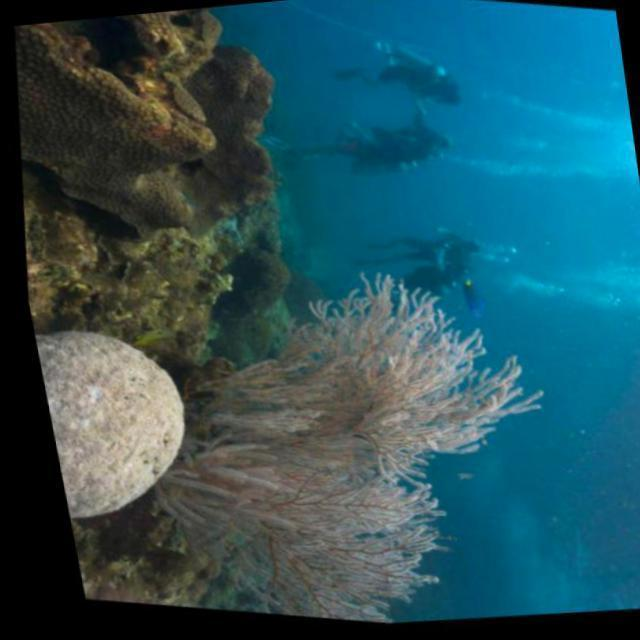Dead Coral: (1, 1, 300, 283)
